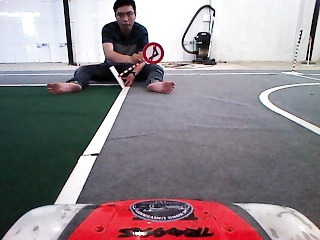ban_left: (142, 42, 165, 64)
